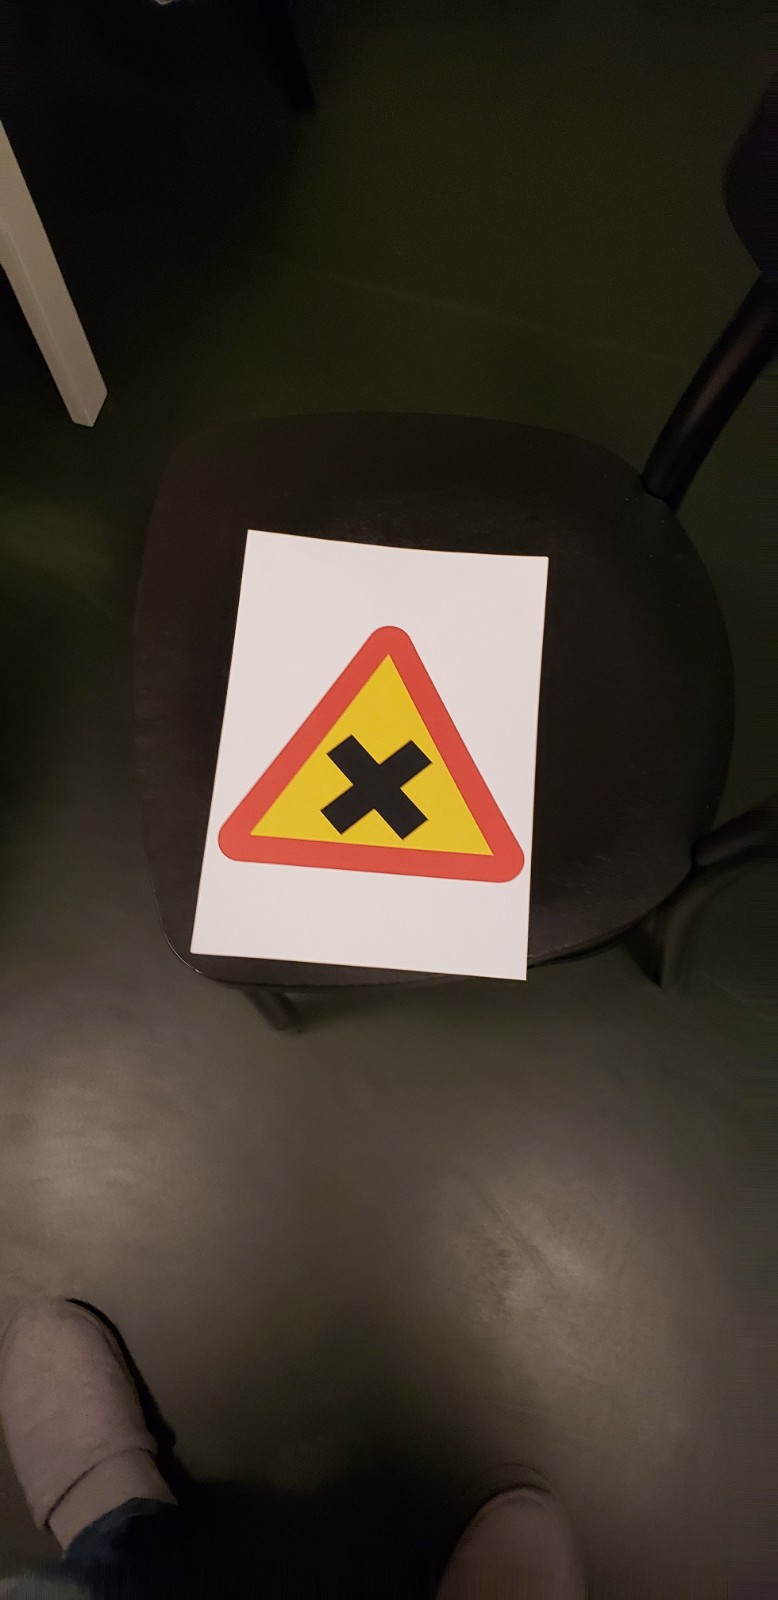junction: (177, 588, 600, 947)
